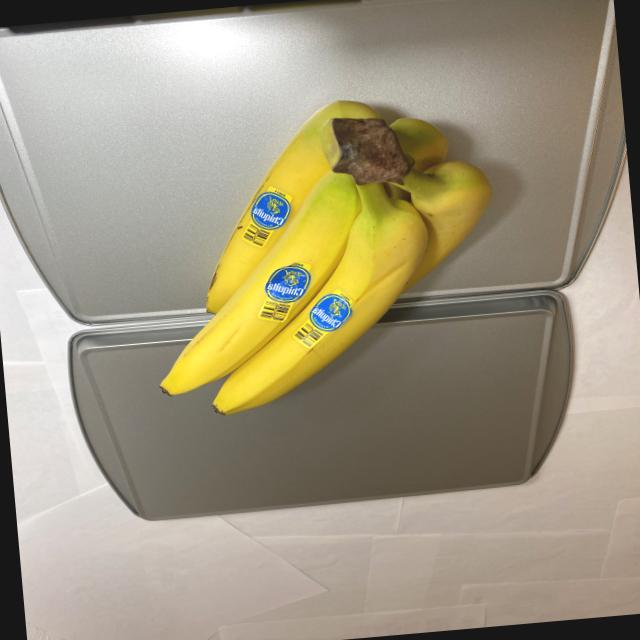banana: (138, 86, 512, 424)
